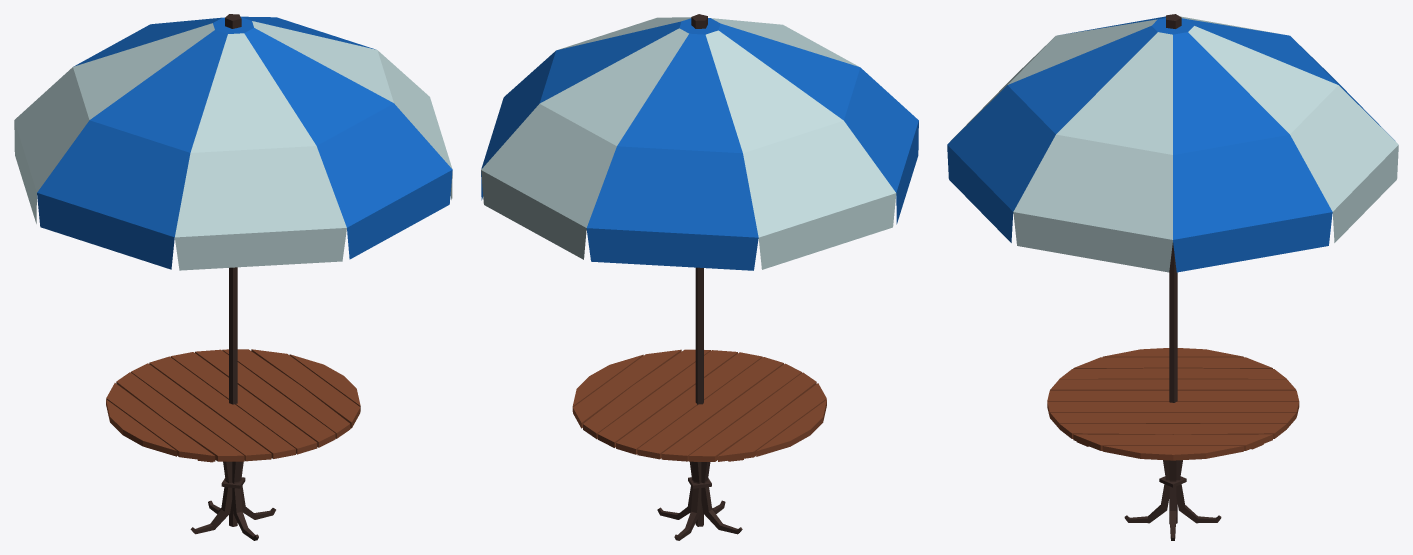
File: village_pack_table_1.glb
The picture shows the model from 3 angles, left to right: view 1: azimuth 30°, elevation 25°; view 2: azimuth 150°, elevation 25°; view 3: azimuth 270°, elevation 25°; orthographic projection.
Parts seen in each view (by area): view 1: table 1_cloth 1_0; view 2: table 1_cloth 1_0; view 3: table 1_cloth 1_0.
Part boxes in pixels (<box>): table 1_cloth 1_0: <box>14,14,452,540</box>; table 1_cloth 1_0: <box>481,14,918,540</box>; table 1_cloth 1_0: <box>947,14,1398,540</box>.
Size of the model in its own units: 1.97 by 2.43 by 1.97.
